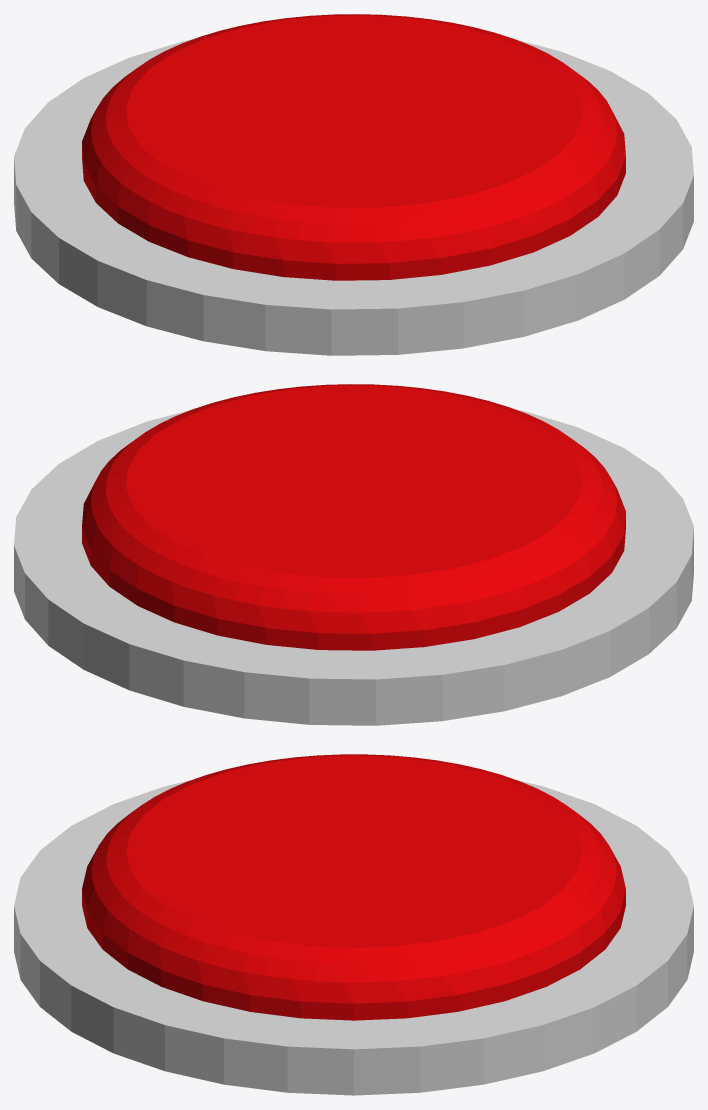
File: Button.fbx
3 views of the same model, one above another, from view 1: azimuth 30°, elevation 25°; view 2: azimuth 150°, elevation 25°; view 3: azimuth 270°, elevation 25° (orthographic).
Parts seen in each view (by area): view 1: Cylinder.001, Cylinder; view 2: Cylinder.001, Cylinder; view 3: Cylinder.001, Cylinder.
Part boxes in pixels (x1=…): Cylinder.001: x1=82, y1=14, x2=625, y2=280; Cylinder: x1=14, y1=39, x2=693, y2=355; Cylinder.001: x1=82, y1=384, x2=625, y2=650; Cylinder: x1=14, y1=409, x2=693, y2=725; Cylinder.001: x1=82, y1=754, x2=625, y2=1020; Cylinder: x1=14, y1=781, x2=693, y2=1095.
Size of the model in its own units: 200 by 32.5 by 200.
